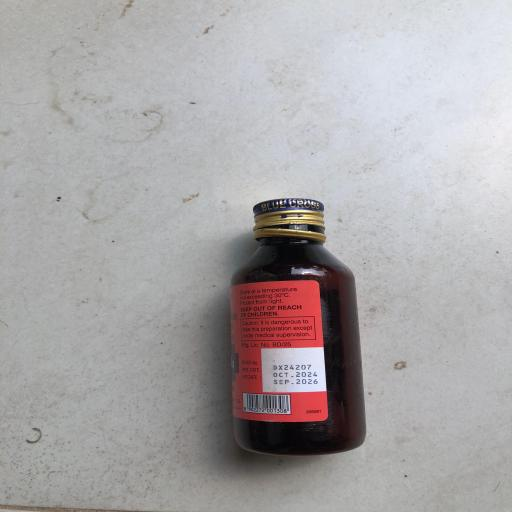waste: (218, 184, 408, 464)
